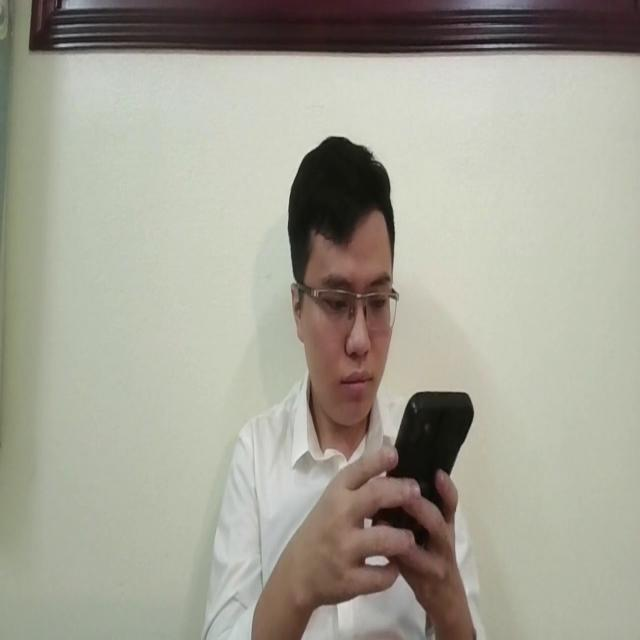phone: (363, 383, 472, 552)
student: (198, 130, 486, 640)
